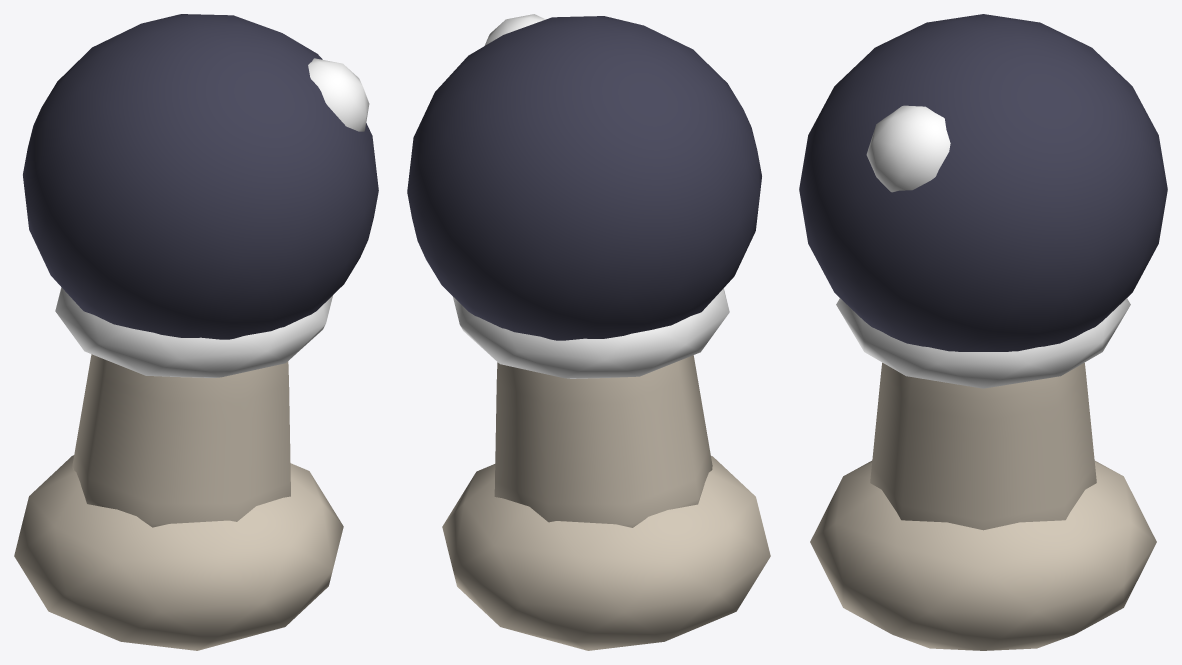
Rendered from creature.pegeye.glb.
3 renders of one model, left to right at view 1: azimuth 30°, elevation 25°; view 2: azimuth 150°, elevation 25°; view 3: azimuth 270°, elevation 25°, orthographic. The views are drawn at different scales.
Visible parts, largest first — view 1: Pupil, Skin, EyeWhite, Glint; view 2: Pupil, Skin, EyeWhite, Glint; view 3: Pupil, Skin, EyeWhite, Glint.
Part boxes in pixels (x1,y1,x2,y2): Pupil: [23, 14, 378, 339]; Skin: [14, 354, 343, 650]; EyeWhite: [55, 287, 332, 377]; Glint: [308, 58, 369, 131]; Pupil: [407, 16, 761, 340]; Skin: [442, 355, 770, 650]; EyeWhite: [453, 288, 729, 378]; Glint: [484, 14, 545, 45]; Pupil: [799, 14, 1167, 351]; Skin: [810, 362, 1156, 650]; EyeWhite: [836, 298, 1130, 388]; Glint: [866, 105, 950, 192].
Bounding box in the file's own units: 1.73 × 3.1 × 1.7.
